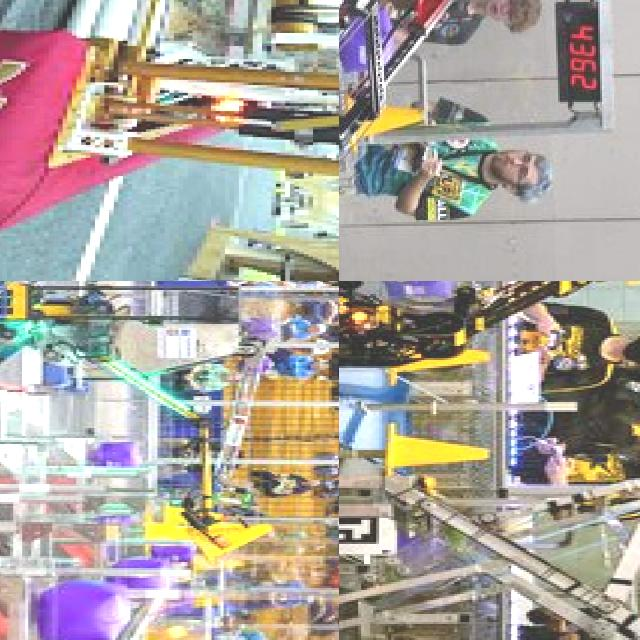FRC-Robots: (0, 0, 339, 281), (0, 281, 281, 570), (339, 0, 487, 281), (339, 281, 640, 402)
